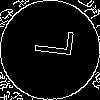L: (25, 25, 74, 59)
